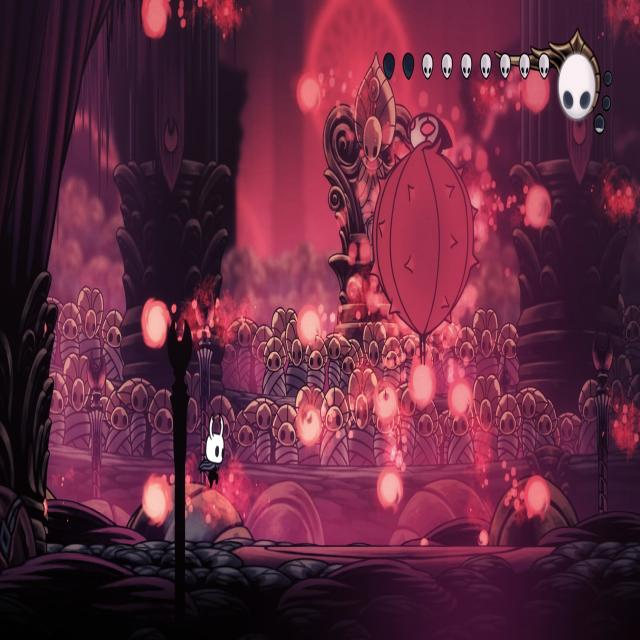Player: (197, 409, 228, 494)
Pufferfish: (366, 109, 482, 372)
Tiny Fireballs: (520, 67, 550, 114), (142, 475, 170, 525), (144, 300, 170, 348), (524, 184, 551, 230), (409, 363, 436, 408), (523, 475, 550, 519), (141, 0, 169, 39), (377, 467, 402, 510), (297, 404, 322, 447), (295, 75, 320, 115), (374, 383, 398, 424), (296, 306, 320, 346), (447, 379, 471, 419)
